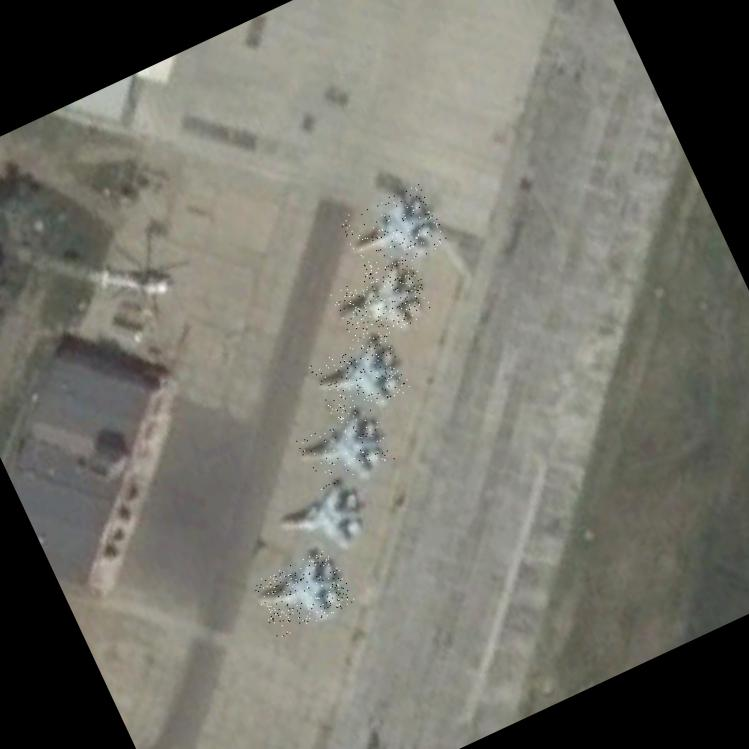A19: (338, 180, 448, 281), (250, 546, 356, 639), (308, 331, 412, 425), (330, 256, 436, 348), (274, 478, 376, 569), (296, 406, 394, 493)
